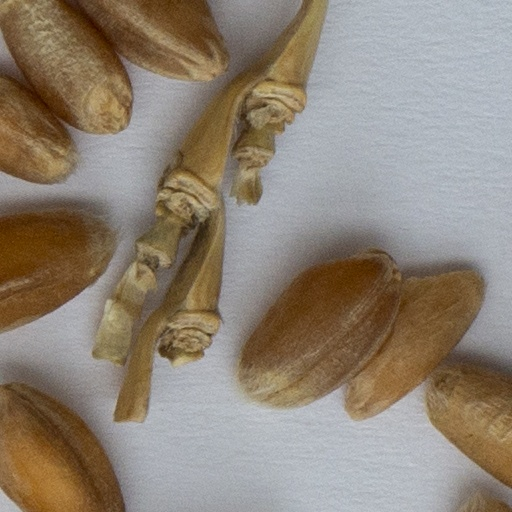Peel-poly: (98, 0, 326, 418)
